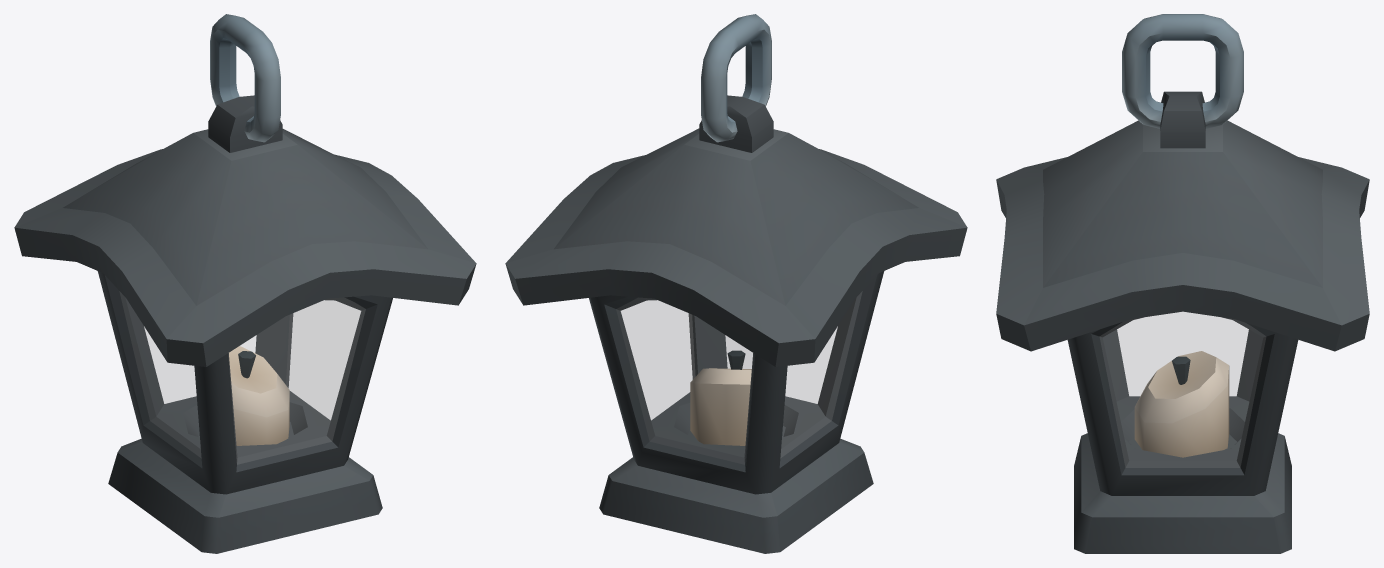
Rendered from prop_lantern.glb.
3 views of the same model, side by side, from view 1: azimuth 30°, elevation 25°; view 2: azimuth 150°, elevation 25°; view 3: azimuth 270°, elevation 25° (orthographic). The views are drawn at different scales.
Parts seen in each view (by area): view 1: lantern, lantern_handle; view 2: lantern, lantern_handle; view 3: lantern, lantern_handle.
Part boxes in pixels (x1,y1,x2,y2): lantern: (14, 95, 476, 553); lantern_handle: (210, 14, 280, 142); lantern: (505, 95, 967, 553); lantern_handle: (701, 14, 771, 142); lantern: (996, 91, 1369, 553); lantern_handle: (1122, 14, 1243, 128).
Size of the model in its own units: 0.7528 by 1.11 by 0.7528.
Materials: 2 (1 with a texture image).
